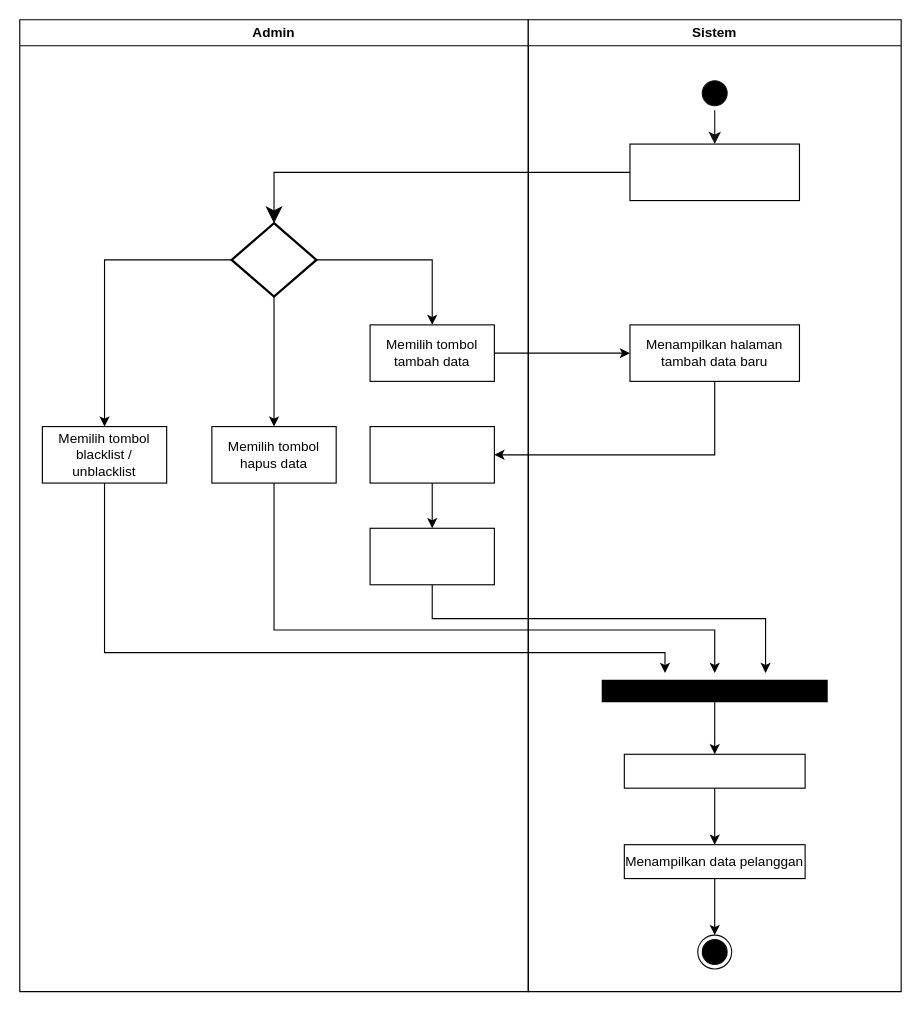
Image size: 921x1011. Some labels were removed from this diagram. The shapes that lost their labels are listed below. From the top down, each one's centre as x and y in pixels, then its label:
point 714,172: Menampilkan halaman data pelanggan
point 431,454: Masukkan data baru
point 431,556: Memilih tombol simpan
point 714,770: Menyimpan di database
